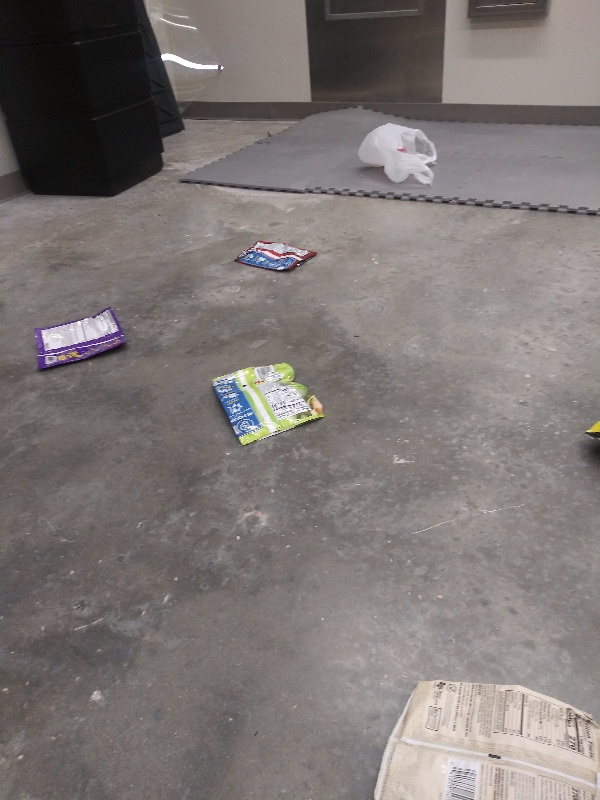bag: (363, 679, 600, 799), (203, 360, 329, 448), (32, 305, 131, 375), (229, 239, 324, 274)
